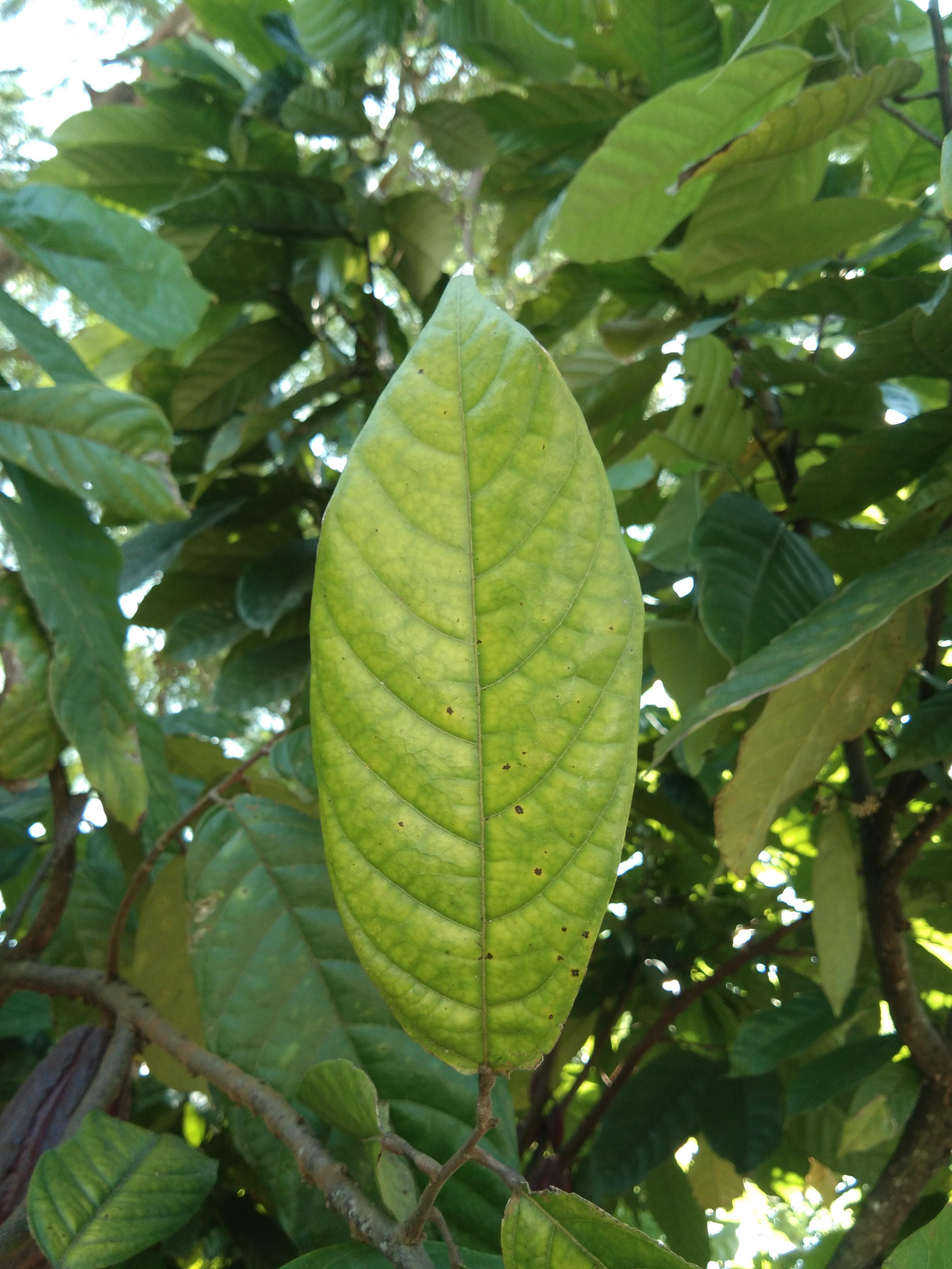deficiencia_potasio: (299, 247, 663, 1098)
